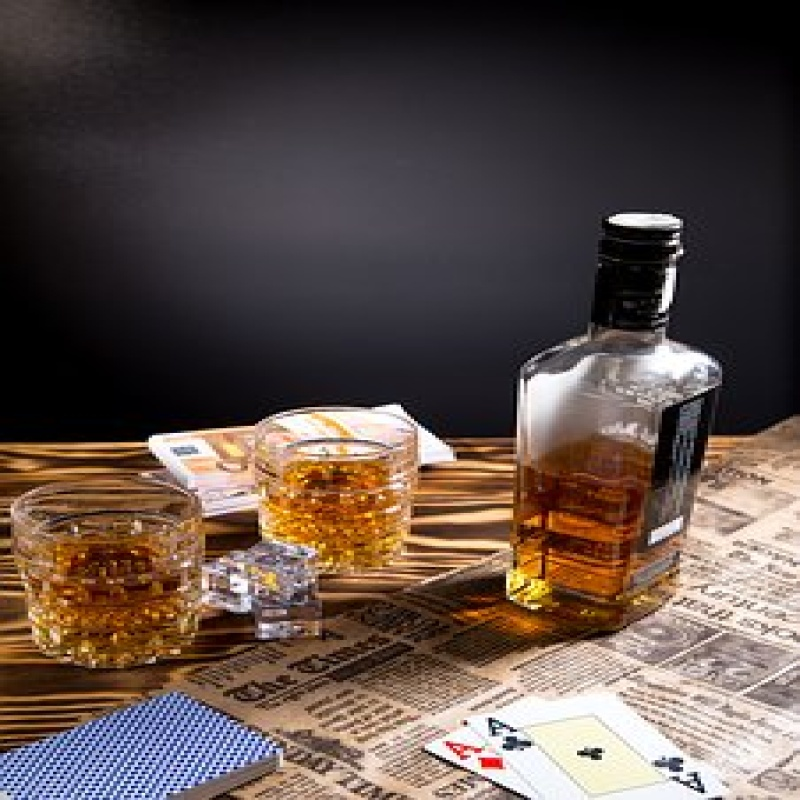whiskey: (20, 481, 212, 659), (253, 407, 427, 571)
